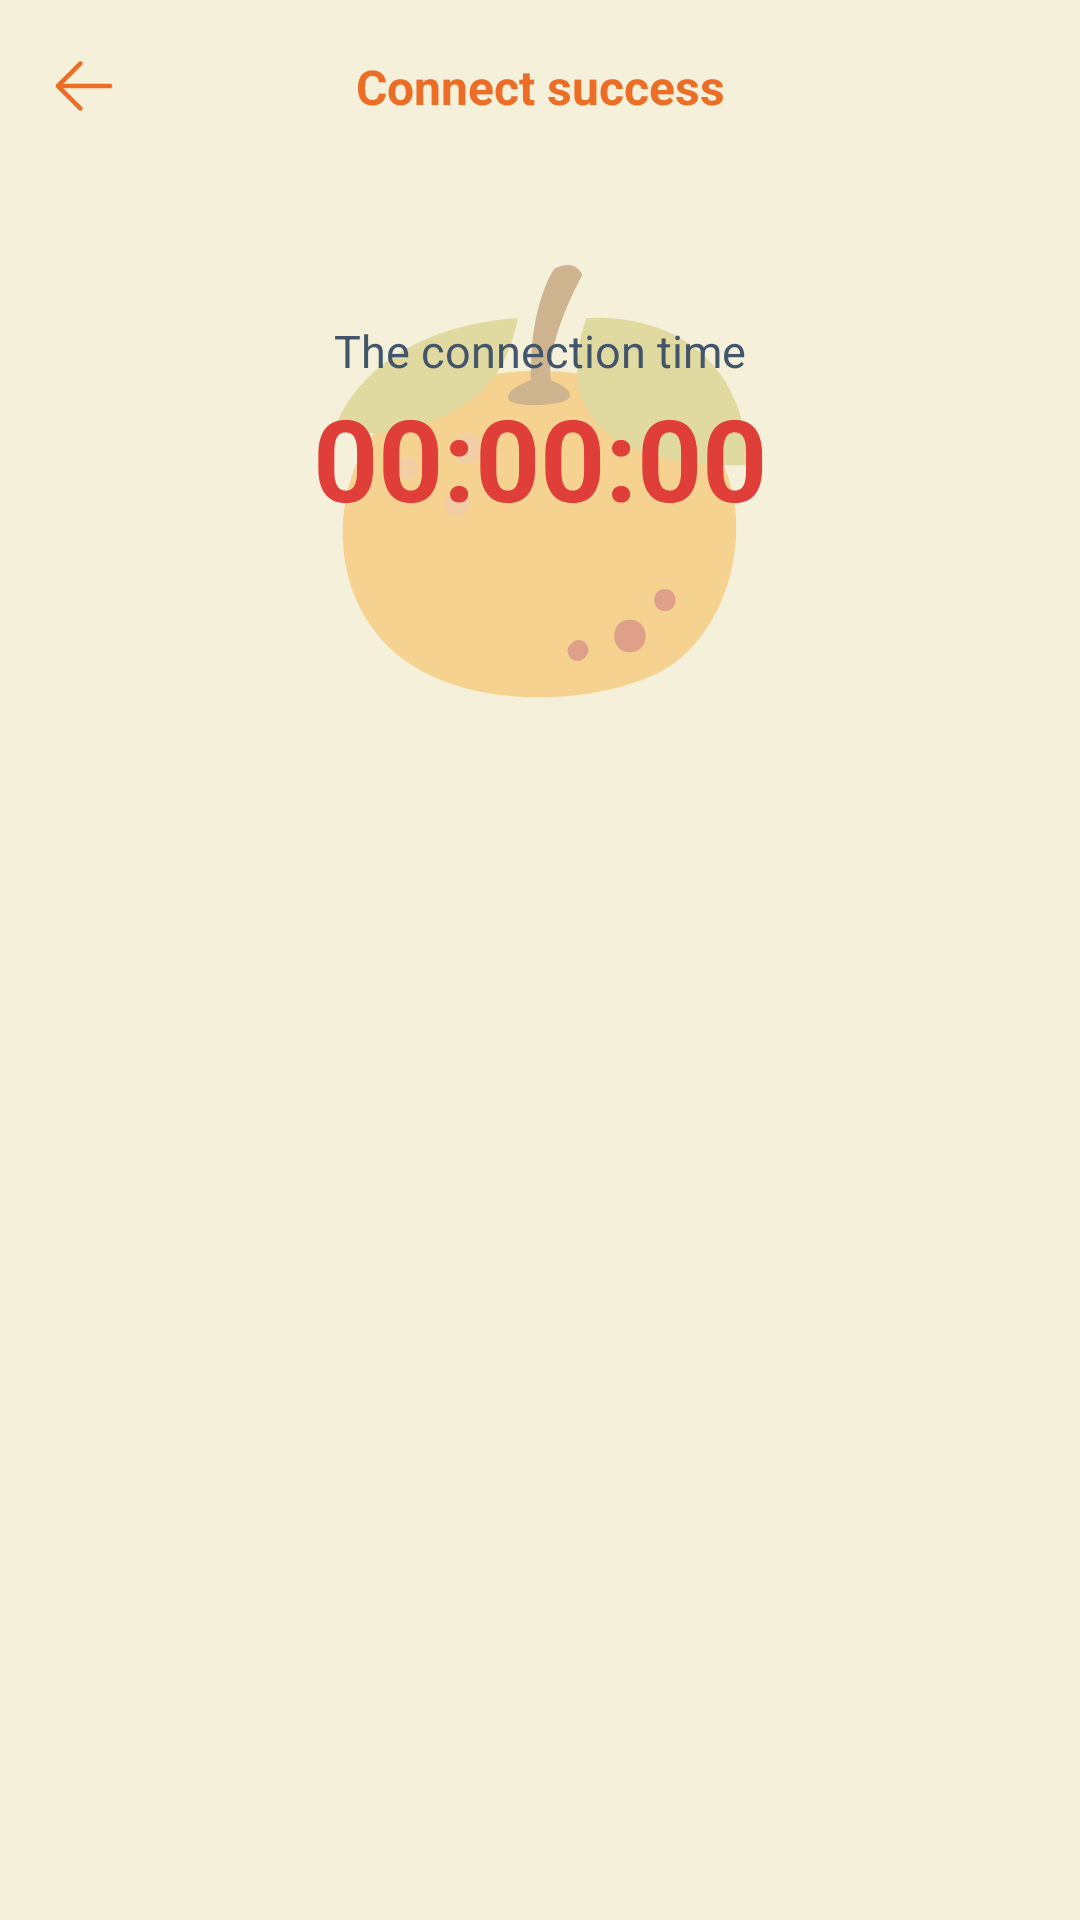

Locate icon controls on the screen. Image size 1080 × 1920, boxes as detection(x1, y1, x2, y2).
back: detection(55, 61, 113, 111)
